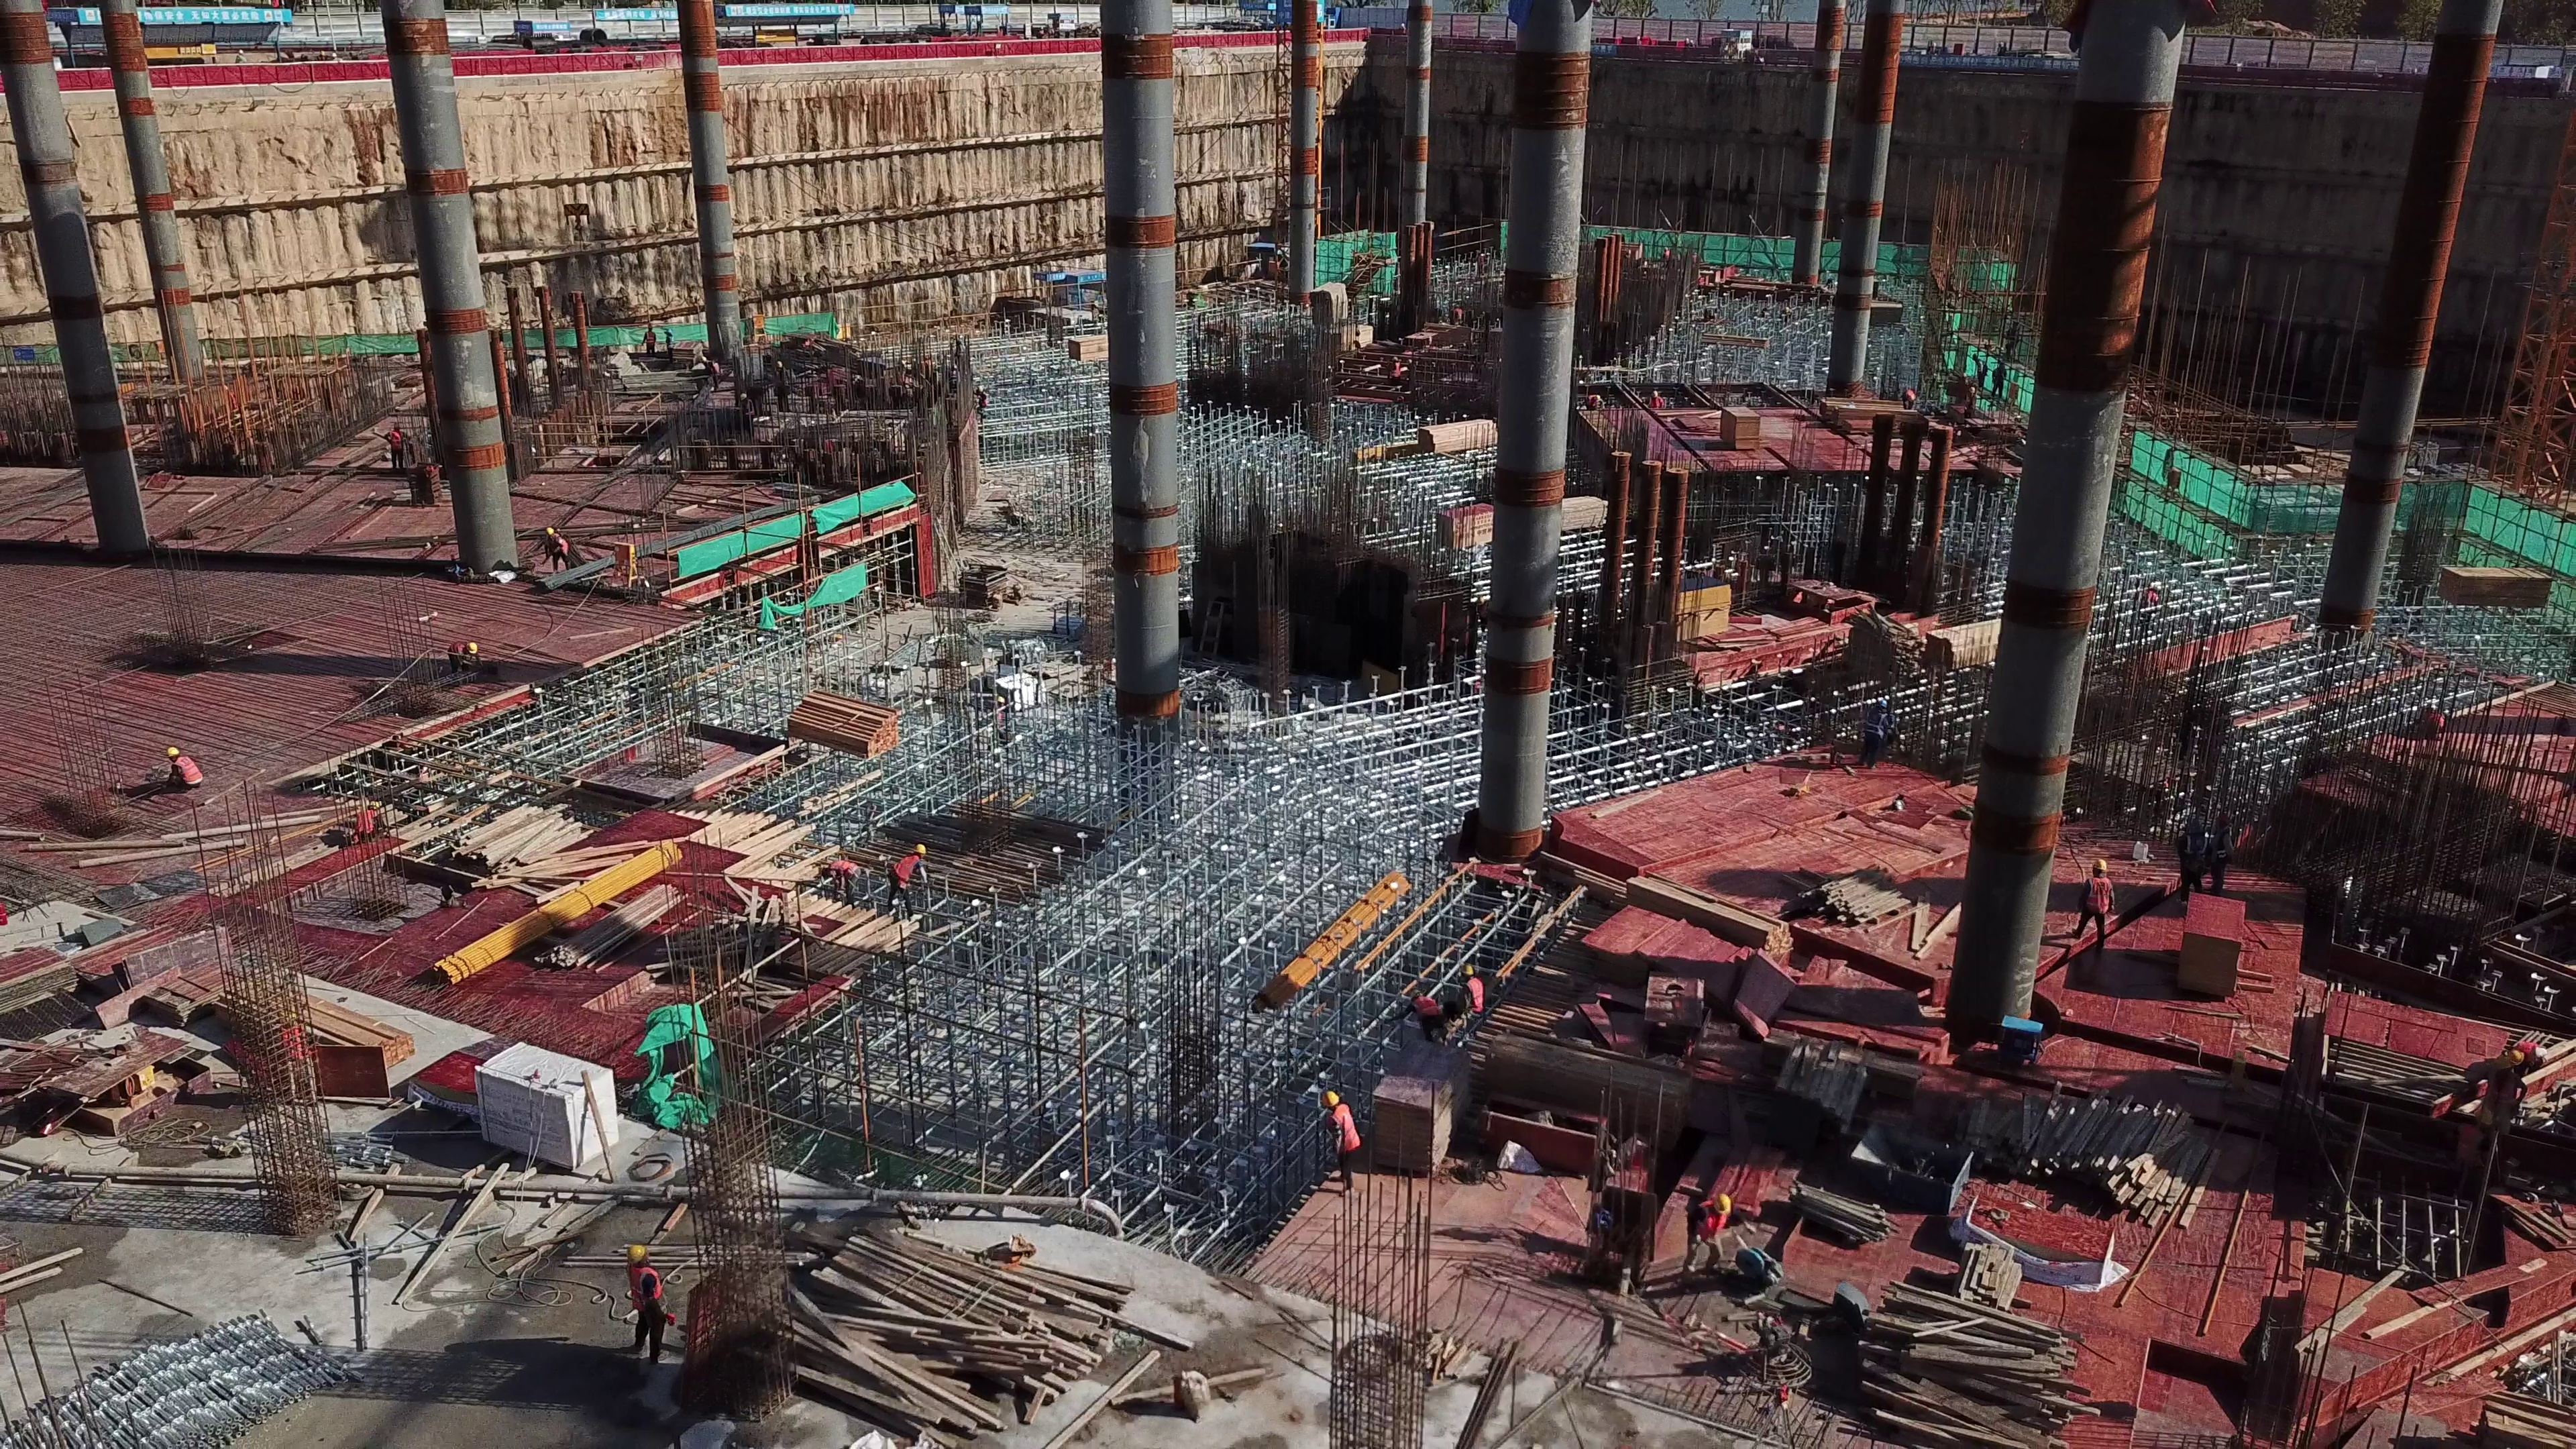board: (1496, 1027, 1682, 1130), (1590, 908, 1752, 1006), (1362, 1045, 1462, 1178), (81, 887, 230, 969), (2178, 898, 2252, 998), (1, 951, 81, 1012), (1436, 498, 1488, 545), (1712, 405, 1761, 455)
cutter: (1731, 1240, 1780, 1291)
fence: (1899, 19, 2576, 87), (1570, 10, 1873, 70), (698, 38, 1101, 70), (45, 54, 394, 86), (433, 52, 676, 81), (1178, 28, 1411, 54), (1414, 10, 1512, 58)
helmet: (627, 1244, 649, 1265), (1320, 1089, 1340, 1108), (1713, 1195, 1731, 1218), (2090, 859, 2106, 873), (914, 843, 928, 856), (163, 747, 178, 758), (466, 643, 478, 655)
person: (2465, 1041, 2531, 1154), (619, 1239, 666, 1360), (1314, 1087, 1361, 1197), (1684, 1191, 1738, 1283), (873, 849, 928, 923), (2084, 858, 2115, 962), (1446, 968, 1488, 1041), (1399, 988, 1446, 1045), (2207, 812, 2235, 903), (156, 748, 207, 798), (1857, 696, 1888, 775), (2178, 821, 2206, 900), (340, 796, 384, 844), (374, 414, 411, 469), (819, 855, 863, 893), (442, 634, 478, 680), (533, 529, 564, 575), (641, 327, 659, 355), (662, 333, 677, 364)
scaffold: (26, 1305, 375, 1449)
slogan: (93, 1, 305, 28)
vest: (621, 1261, 661, 1311), (1321, 1104, 1361, 1153), (824, 855, 866, 884), (612, 543, 639, 588), (2085, 878, 2113, 916), (888, 854, 916, 884), (175, 760, 203, 789), (1863, 706, 1884, 739), (1464, 979, 1483, 1016), (1411, 997, 1437, 1017)
wood: (784, 1254, 1115, 1412), (1874, 1280, 2090, 1436), (1974, 1095, 2216, 1216), (197, 967, 427, 1087), (429, 808, 593, 912), (1749, 1037, 1857, 1153), (786, 696, 901, 763), (1812, 877, 1926, 936)
